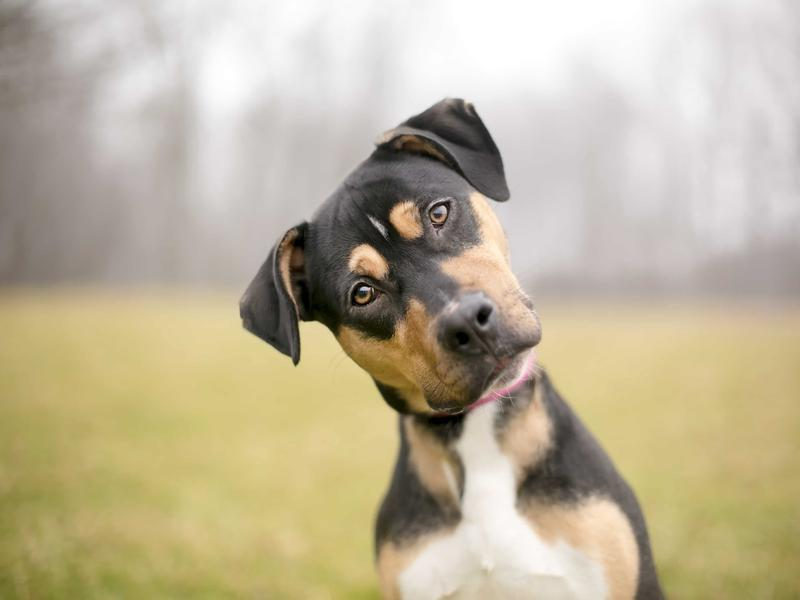dog: (237, 94, 685, 600)
